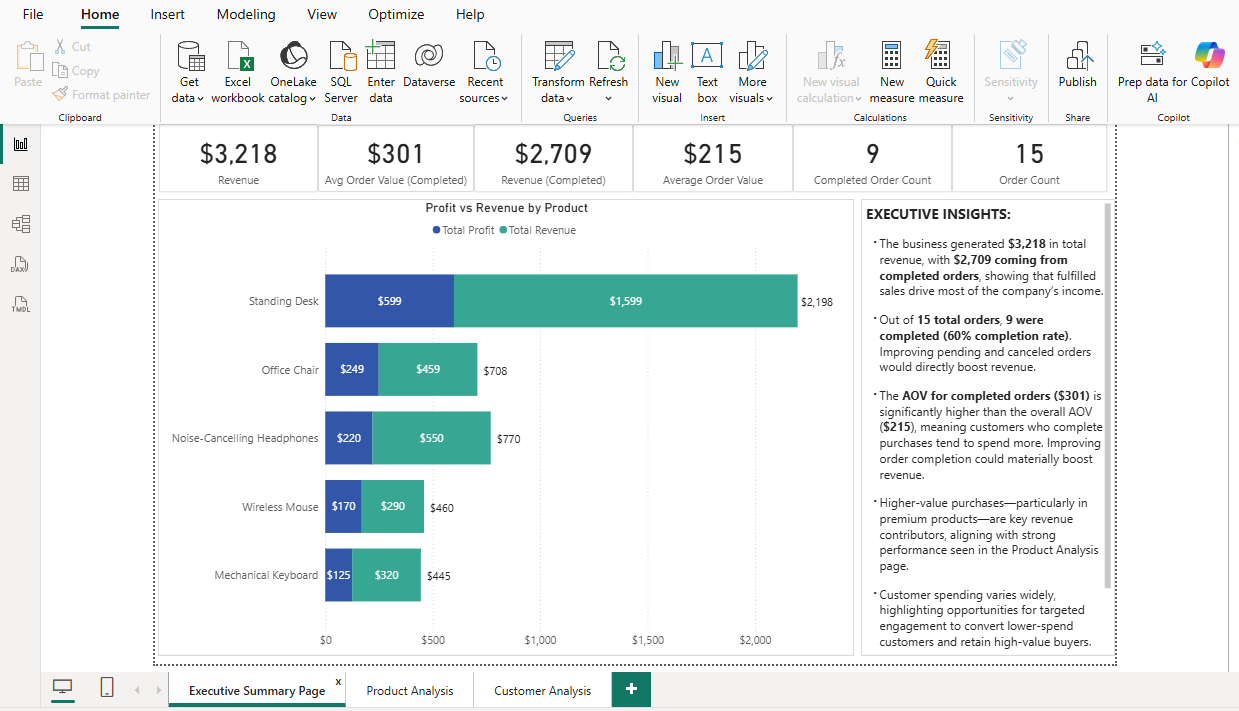

The dashboard page shown, as its layout file describes it:
{"tool":"powerbi","page":{"name":"Executive Summary Page","canvas":[1280,720],"ordinal":0},"visuals":[{"type":"card","fields":{"Values":["retail_sales_orderitems.Average Order Value"]},"box":[637.3,0,213.3,90.7],"z":0},{"type":"card","fields":{"Values":["retail_sales_orderitems.Total Revenue"]},"box":[5.3,0,212,90.7],"z":1000},{"type":"card","fields":{"Values":["retail_sales_orderitems.Order Count"]},"box":[1062.7,0,206.7,90.7],"z":2000},{"type":"card","fields":{"Values":["retail_sales_orders.AOV (Completed Orders)"]},"box":[217.3,1.3,208,89.3],"z":3000},{"type":"card","fields":{"Values":["retail_sales_orders.Completed Order Count"]},"box":[850.7,0,212,90.7],"z":4000},{"type":"card","fields":{"Values":["retail_sales_orderitems.Completed Revenue"]},"box":[425.3,0,212,90.7],"z":5000},{"type":"barChart","title":"Profit vs Revenue by Product","fields":{"Y":["product_enrichment.Total Profit","retail_sales_orderitems.Total Revenue"],"Category":["retail_sales_products.ProductName"]},"box":[4,100,928,609.3],"z":6000},{"type":"textbox","box":[941.3,100,338.7,609.3],"z":7000}]}

Visuals, with their boxes on the page's 1280x720 design canvas (x1, y1, x2, y2). These are canvas units, not pixel positions in the 1239x711 screenshot, which may show the page scaled, cropped or inside an application window:
card - retail_sales_orderitems.Average Order Value: <bbox>637, 0, 851, 91</bbox>
card - retail_sales_orderitems.Total Revenue: <bbox>5, 0, 217, 91</bbox>
card - retail_sales_orderitems.Order Count: <bbox>1063, 0, 1269, 91</bbox>
card - retail_sales_orders.AOV (Completed Orders): <bbox>217, 1, 425, 91</bbox>
card - retail_sales_orders.Completed Order Count: <bbox>851, 0, 1063, 91</bbox>
card - retail_sales_orderitems.Completed Revenue: <bbox>425, 0, 637, 91</bbox>
"Profit vs Revenue by Product" barChart: <bbox>4, 100, 932, 709</bbox>
textbox: <bbox>941, 100, 1280, 709</bbox>
